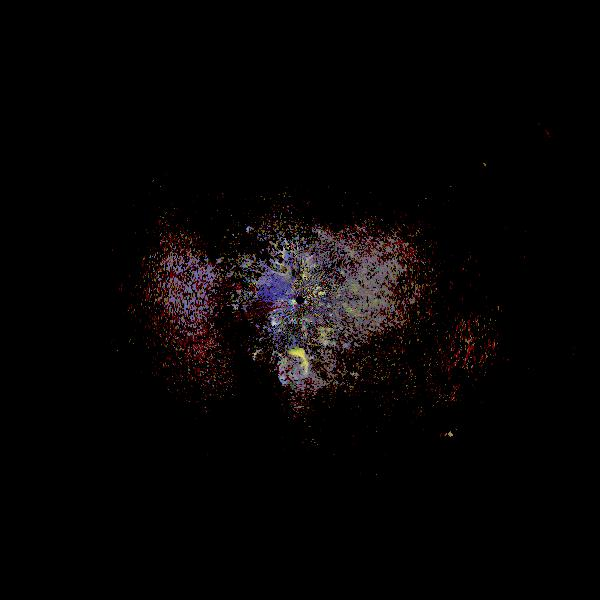roost: (275, 345, 320, 390)
